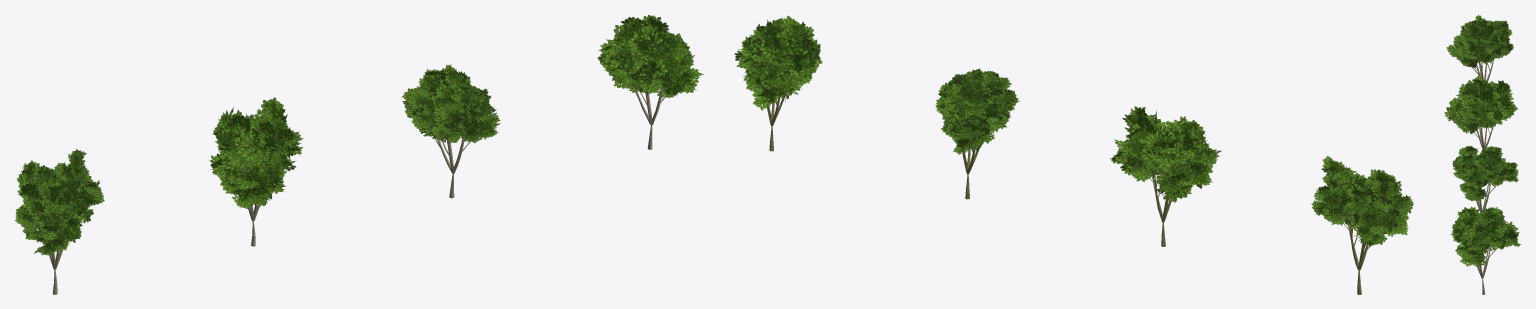
The model's file is tree_pear.glb.
3 views of the same model, side by side, from view 1: azimuth 30°, elevation 25°; view 2: azimuth 150°, elevation 25°; view 3: azimuth 270°, elevation 25° (orthographic). The views are drawn at different scales.
Parts seen in each view (by area): view 1: v0_lo_leaf, v0_hi_leaf, v1_lo_leaf, v1_hi_leaf, v1_hi_bark, v1_lo_bark; view 2: v0_lo_leaf, v0_hi_leaf, v1_lo_leaf, v1_hi_leaf, v0_hi_bark; view 3: v0_lo_leaf, v1_lo_leaf, v1_hi_leaf, v0_hi_leaf, v0_lo_bark, v0_hi_bark, v1_lo_bark, v1_hi_bark.
Part boxes in pixels (x1,y1,x2,y2): v0_lo_leaf: (209,97,303,208); v0_hi_leaf: (15,149,104,255); v1_lo_leaf: (597,15,703,100); v1_hi_leaf: (402,64,500,143); v1_hi_bark: (434,115,476,198); v1_lo_bark: (633,83,667,149); v0_lo_leaf: (1109,106,1221,202); v0_hi_leaf: (1311,155,1413,246); v1_lo_leaf: (734,15,822,110); v1_hi_leaf: (935,68,1019,154); v0_hi_bark: (1330,187,1370,294); v0_lo_leaf: (1444,75,1517,133); v1_lo_leaf: (1450,206,1520,268); v1_hi_leaf: (1452,146,1518,201); v0_hi_leaf: (1446,14,1513,67); v0_lo_bark: (1474,119,1493,149); v0_hi_bark: (1472,46,1494,81); v1_lo_bark: (1477,245,1497,294); v1_hi_bark: (1476,176,1503,212).
Size of the model in its own units: 68.37 by 13.44 by 10.52.
Materials: 2 (2 with a texture image).
